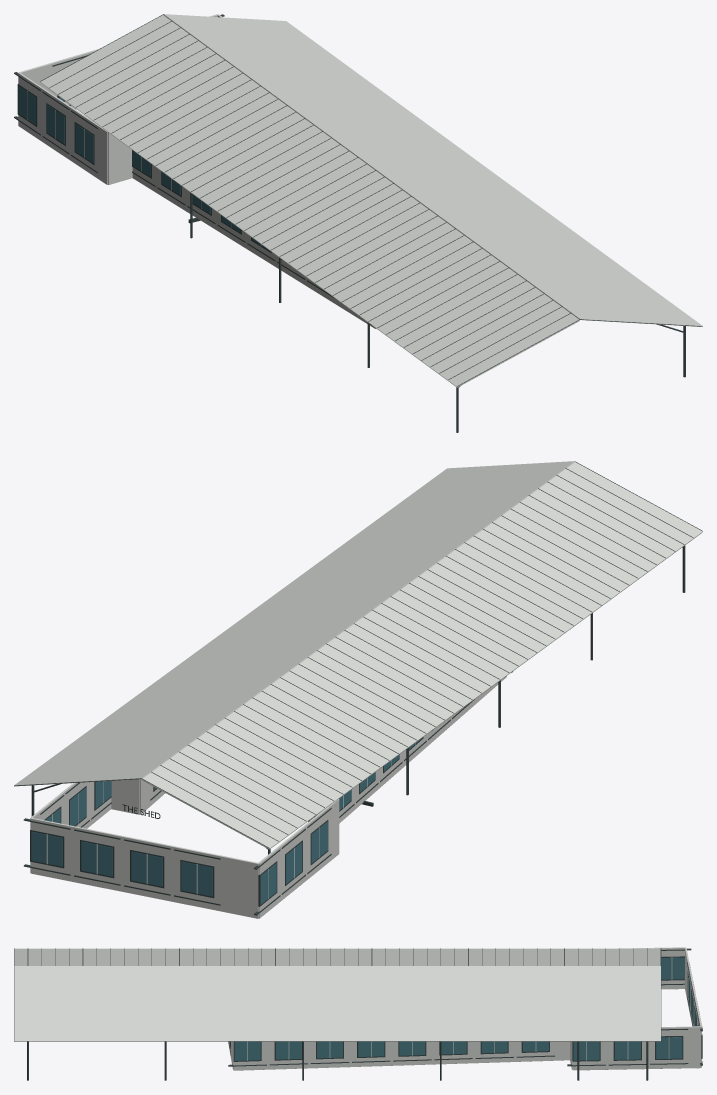
File: valade-shed.glb
3 renders of one model, top to bottom at view 1: azimuth 30°, elevation 25°; view 2: azimuth 150°, elevation 25°; view 3: azimuth 270°, elevation 25°, orthographic. The views are drawn at different scales.
Visible parts, largest first — view 1: Shed mapped wall, Shed window frame, Shed glazing; view 2: Shed mapped wall, Shed window frame, Shed glazing; view 3: Shed mapped wall, Shed glazing, Shed window frame.
Part boxes in pixels (left/top/right/bottom): Shed mapped wall: left=18, top=14, right=702, bottom=387; Shed window frame: left=14, top=14, right=702, bottom=432; Shed glazing: left=18, top=86, right=270, bottom=251; Shed mapped wall: left=14, top=461, right=702, bottom=918; Shed window frame: left=14, top=461, right=702, bottom=915; Shed glazing: left=31, top=737, right=423, bottom=904; Shed mapped wall: left=14, top=947, right=701, bottom=1070; Shed glazing: left=229, top=957, right=697, bottom=1060; Shed window frame: left=14, top=948, right=702, bottom=1080.
Size of the model in its own units: 16.47 by 5.86 by 50.07.
